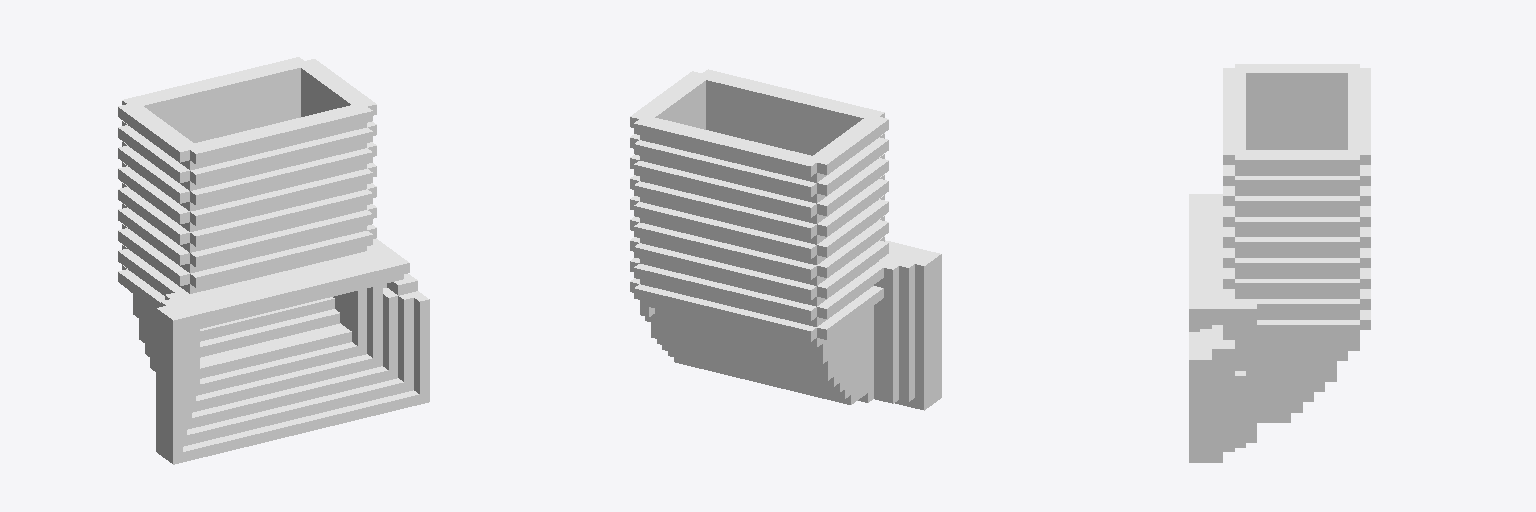
The model's file is chute.obj.
3 renders of one model, left to right at view 1: azimuth 30°, elevation 25°; view 2: azimuth 150°, elevation 25°; view 3: azimuth 270°, elevation 25°, orthographic.
Parts seen in each view (by area): view 1: object 1; view 2: object 1; view 3: object 1.
Boxes of the visible parts, x1,y1,x2,y2 form: object 1: [118, 57, 429, 464]; object 1: [630, 69, 941, 410]; object 1: [1189, 64, 1370, 462].
Bounding box in the file's own units: 2.6 × 2.8 × 1.6.